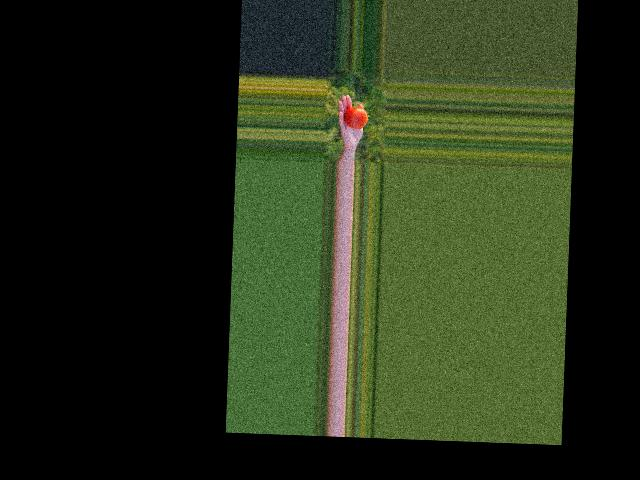tomato: (343, 106, 367, 128)
